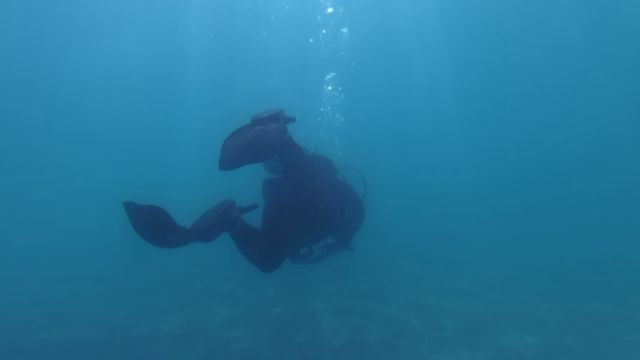Diver: (116, 93, 382, 287)
